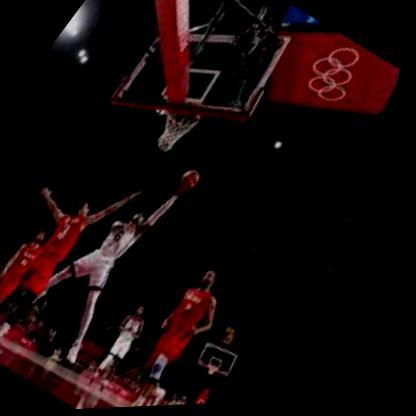basketball: (181, 168, 212, 196)
rim: (160, 99, 210, 138)
